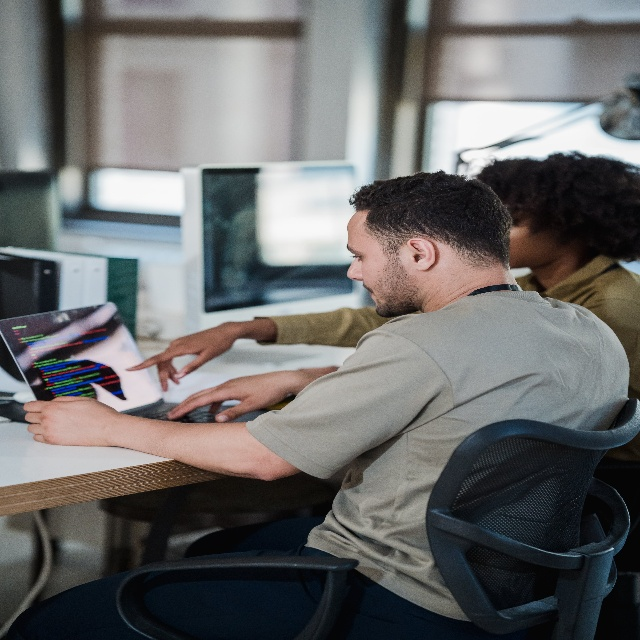Sin_guantes: (125, 322, 235, 392), (166, 370, 292, 423), (23, 395, 118, 446)
